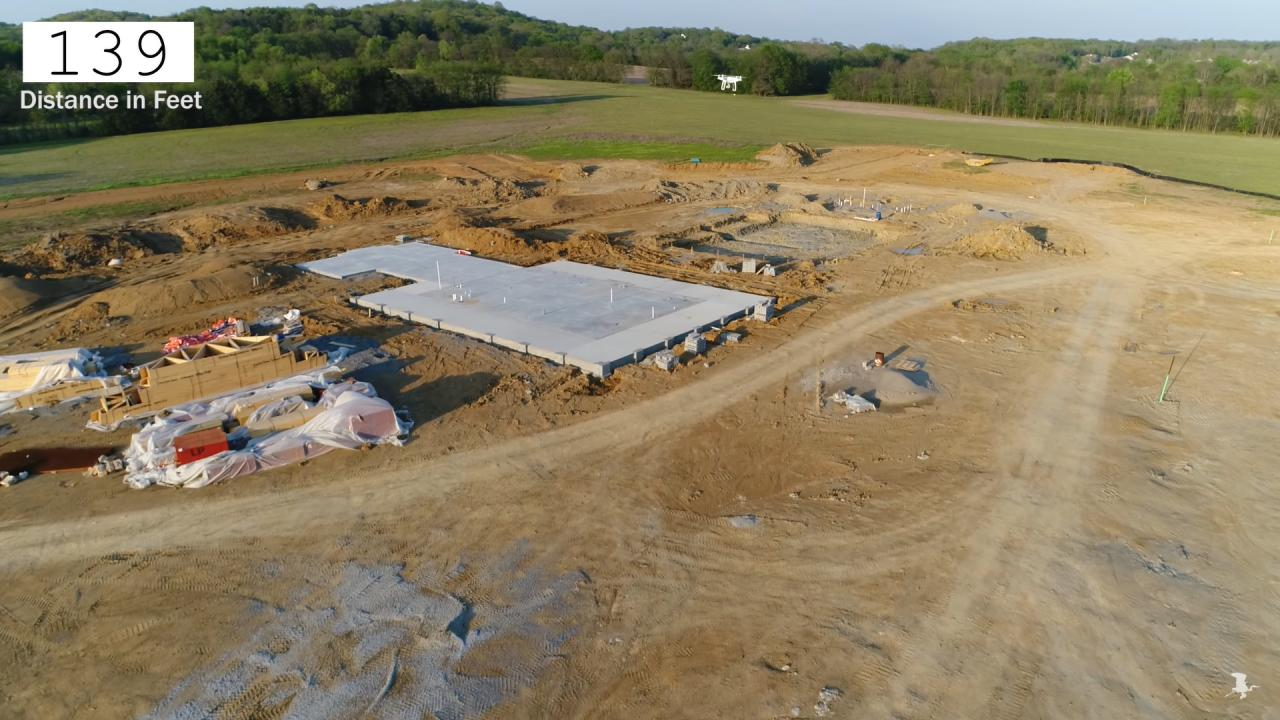Drone: (704, 66, 755, 102)
